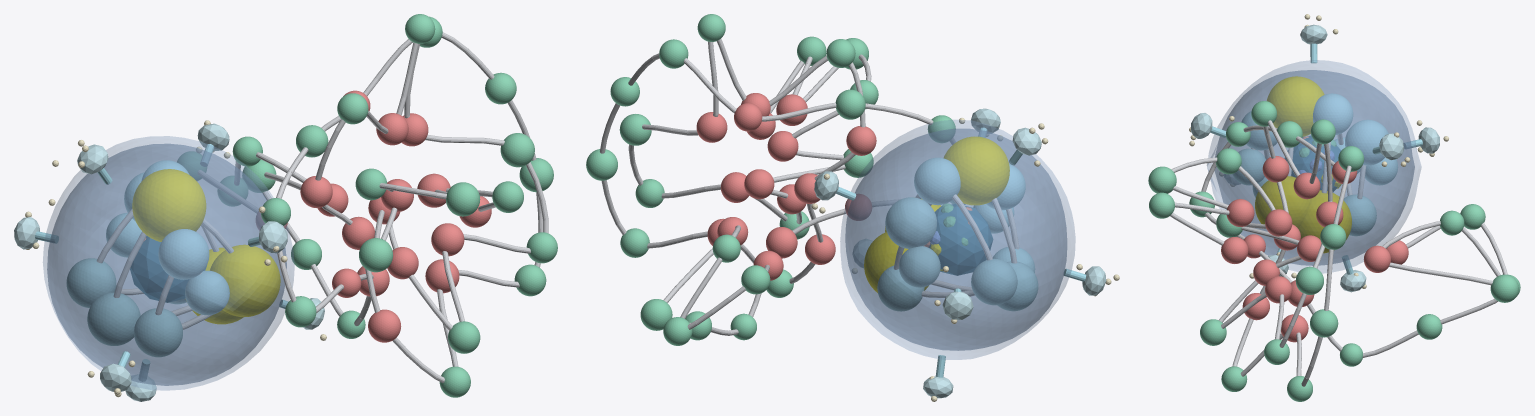
Rendered from docking_mutante_proteina_1_40aa_x_virus_ficticio_b_8280297.glb.
The picture shows the model from 3 angles, left to right: view 1: azimuth 30°, elevation 25°; view 2: azimuth 150°, elevation 25°; view 3: azimuth 270°, elevation 25°; orthographic projection. The views are drawn at different scales.
Parts seen in each view (by area): view 1: geometry_0, geometry_1, geometry_136, geometry_135, geometry_137, geometry_133, geometry_2, geometry_134, geometry_140, geometry_132, geometry_709, geometry_706 (+42 smaller); view 2: geometry_0, geometry_1, geometry_136, geometry_2, geometry_142, geometry_139, geometry_140, geometry_143, geometry_141, geometry_138, geometry_137, geometry_133 (+40 smaller); view 3: geometry_0, geometry_1, geometry_136, geometry_135, geometry_142, geometry_139, geometry_138, geometry_141, geometry_2, geometry_132, geometry_143, geometry_737 (+42 smaller).
Boxes of the visible parts, <box> form: geometry_0: <box>43,136,294,390</box>; geometry_1: <box>47,143,286,385</box>; geometry_136: <box>132,169,206,241</box>; geometry_135: <box>210,244,280,316</box>; geometry_137: <box>87,292,140,345</box>; geometry_133: <box>158,229,209,279</box>; geometry_2: <box>130,236,206,302</box>; geometry_134: <box>134,308,182,357</box>; geometry_140: <box>66,258,116,307</box>; geometry_132: <box>185,270,229,315</box>; geometry_709: <box>359,238,393,272</box>; geometry_706: <box>446,182,480,216</box>; geometry_0: <box>840,120,1075,359</box>; geometry_1: <box>845,128,1067,350</box>; geometry_136: <box>944,136,1009,205</box>; geometry_2: <box>928,203,993,275</box>; geometry_142: <box>885,197,936,248</box>; geometry_139: <box>914,157,960,205</box>; geometry_140: <box>971,259,1017,305</box>; geometry_143: <box>899,246,940,287</box>; geometry_141: <box>877,265,924,311</box>; geometry_138: <box>864,232,928,292</box>; geometry_137: <box>997,261,1038,311</box>; geometry_133: <box>986,164,1025,210</box>; geometry_0: <box>1207,60,1421,273</box>; geometry_1: <box>1214,70,1414,265</box>; geometry_136: <box>1267,76,1324,136</box>; geometry_135: <box>1255,176,1311,228</box>; geometry_142: <box>1345,119,1388,165</box>; geometry_139: <box>1313,93,1353,134</box>; geometry_138: <box>1298,190,1351,253</box>; geometry_141: <box>1343,194,1376,236</box>; geometry_2: <box>1284,135,1340,192</box>; geometry_132: <box>1232,148,1265,185</box>; geometry_143: <box>1365,158,1397,185</box>; geometry_737: <box>1490,274,1518,302</box>.
Bounding box in the file's own units: 22.5 × 14.01 × 17.01.
